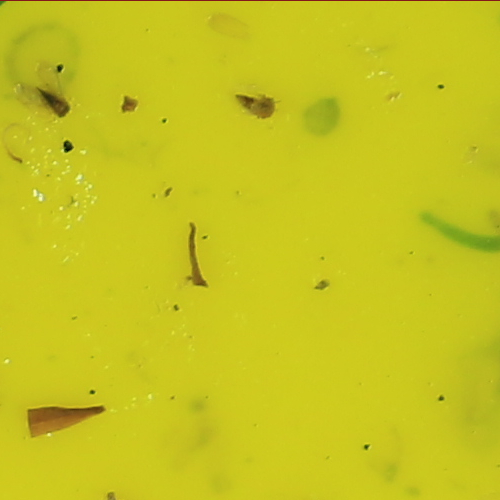psylla: (39, 87, 71, 117)
